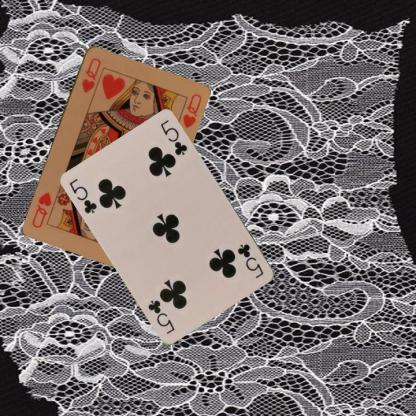5c: (67, 176, 99, 216), (235, 240, 265, 281)
Qh: (78, 54, 102, 94)
